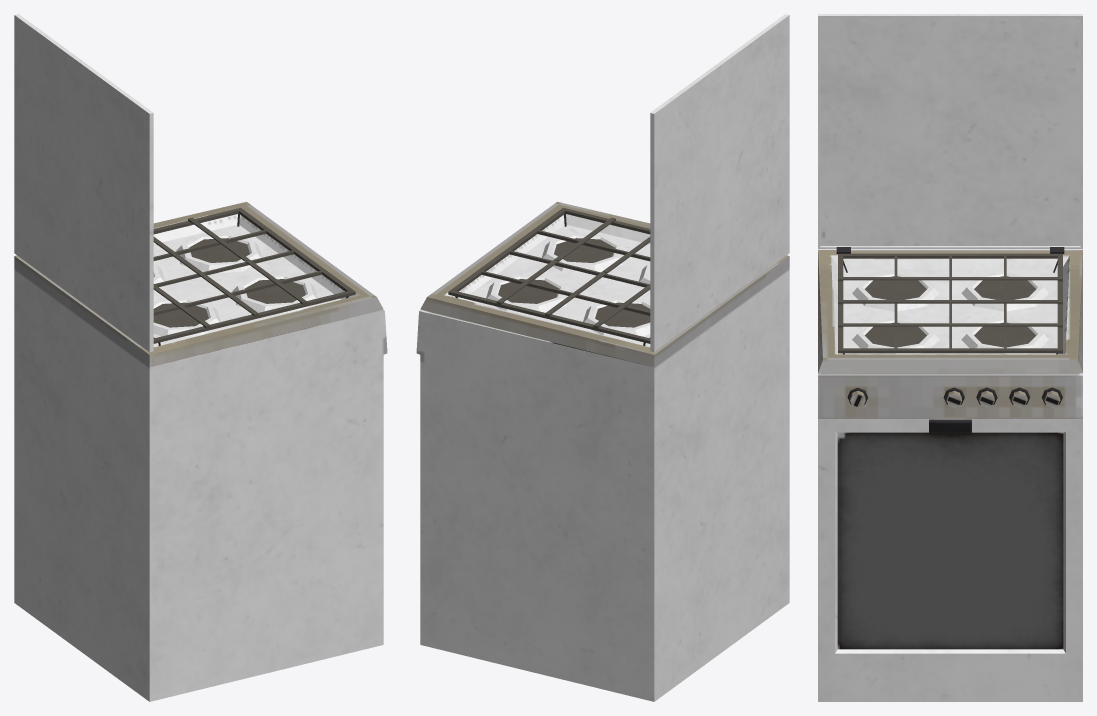
Rendered from Stove_low.fbx.
3 renders of one model, left to right at view 1: azimuth 30°, elevation 25°; view 2: azimuth 150°, elevation 25°; view 3: azimuth 270°, elevation 25°, orthographic. The views are drawn at different scales.
Visible parts, largest first — view 1: Stove_low.004, Stove_low.001, Stove_low.007, Stove_low.006; view 2: Stove_low.004, Stove_low.001, Stove_low.007, Stove_low.006; view 3: Stove_low.004, Stove_low.001, Stove_low.006, Stove_low.003, Stove_low.007, Stove_low.008.
Part boxes in pixels (box(x1,y1,x2,y2)): Stove_low.004: box(14, 14, 387, 701); Stove_low.001: box(153, 233, 317, 337); Stove_low.007: box(153, 230, 321, 315); Stove_low.006: box(153, 217, 307, 328); Stove_low.004: box(416, 14, 789, 701); Stove_low.001: box(486, 233, 650, 337); Stove_low.007: box(481, 230, 650, 315); Stove_low.006: box(496, 217, 650, 328); Stove_low.004: box(818, 14, 1082, 701); Stove_low.001: box(852, 271, 1048, 354); Stove_low.006: box(838, 277, 1062, 327); Stove_low.003: box(943, 387, 1062, 407); Stove_low.007: box(894, 256, 1006, 348); Stove_low.008: box(929, 419, 971, 433).
Bounding box in the file's own units: 63.02 × 144 × 60.
Materials: 1 (1 with a texture image).
